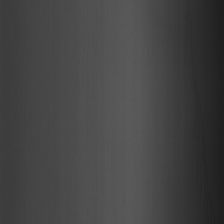inclusion: (182, 7, 215, 210)
